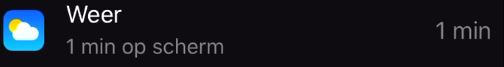name: (61, 2, 129, 31)
time: (64, 32, 119, 64)
